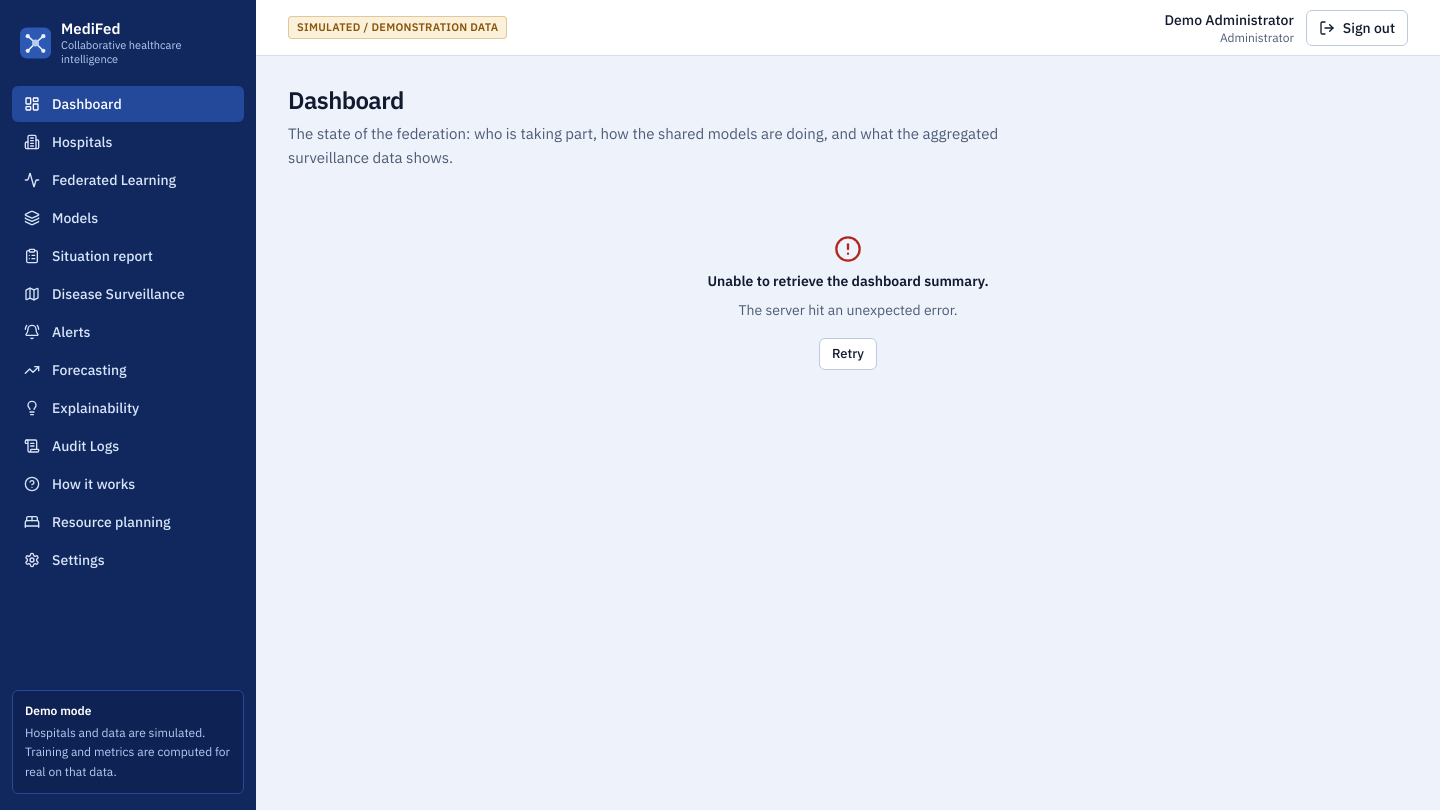
Test: dashboard › shows an error with Retry when the summary cannot be loaded, then recovers
Expected: the text "Unable to retrieve the dashboard summary." is shown, x1=707 y1=271 x2=989 y2=291
Click the button "Retry".
click(848, 354)  # box x1=819 y1=338 x2=877 y2=370
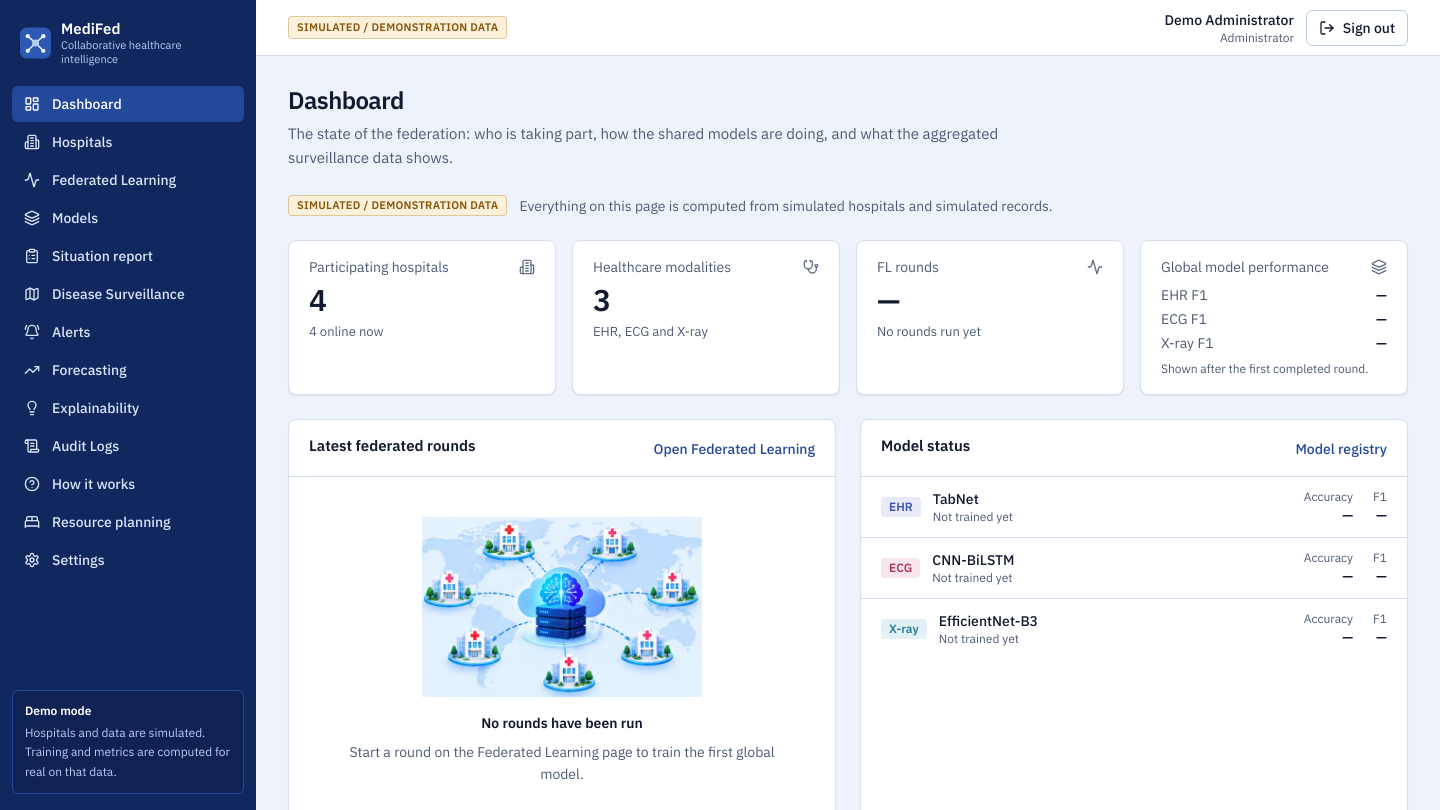
Now the text "Participating hospitals" is shown, box x1=309 y1=258 x2=449 y2=278
